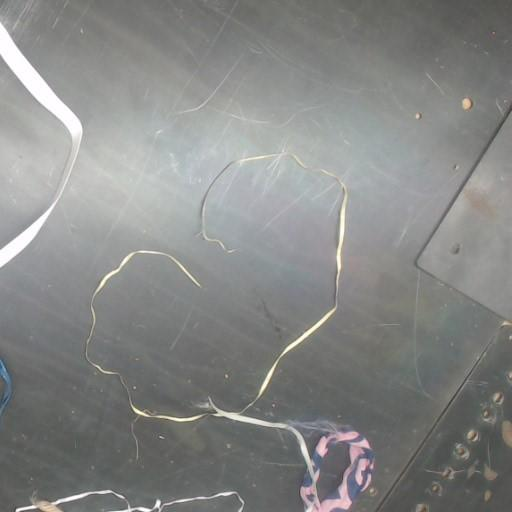cloth: (300, 428, 374, 511)
conveyor belt: (317, 442, 349, 500)
thread: (85, 150, 346, 478), (0, 22, 82, 267), (15, 490, 243, 511), (0, 358, 12, 423)
